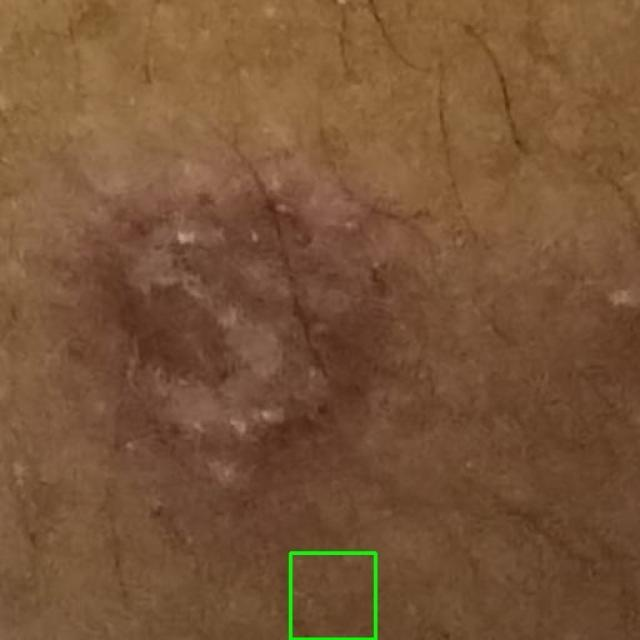Tinea Corporis: (290, 552, 375, 639)
